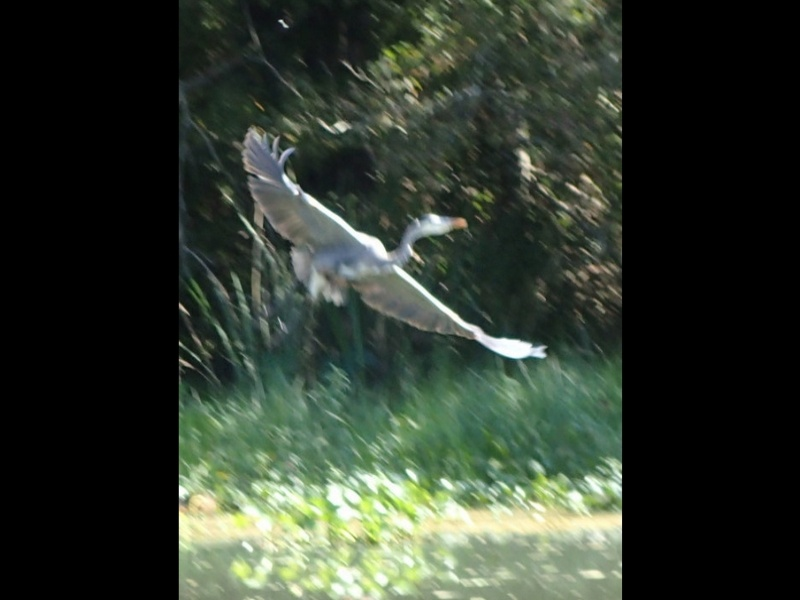heron: (240, 122, 554, 369)
